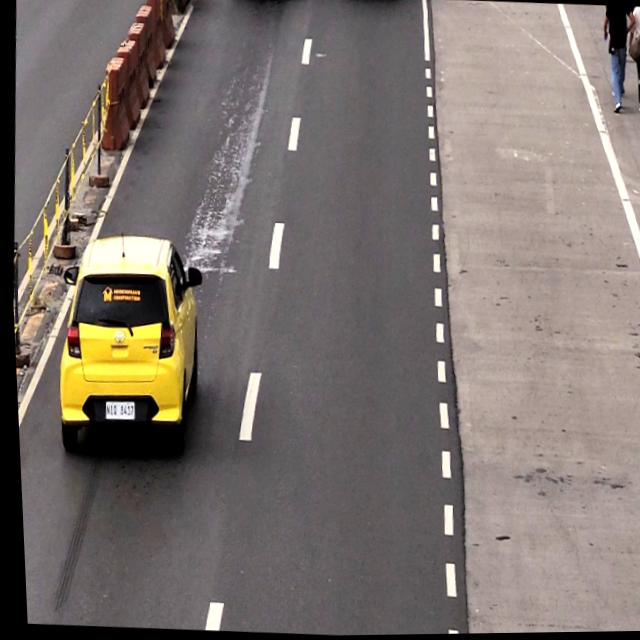Car: (49, 227, 204, 462)
License-Plate: (101, 400, 132, 421)
